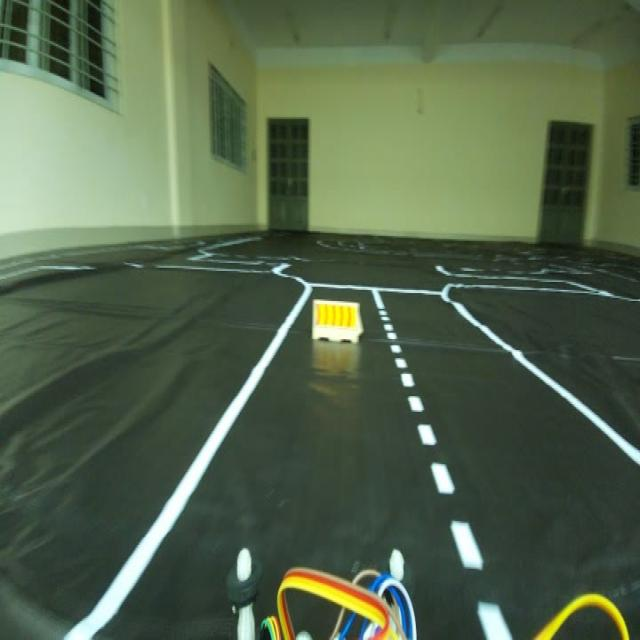roadblock: (305, 289, 364, 346)
